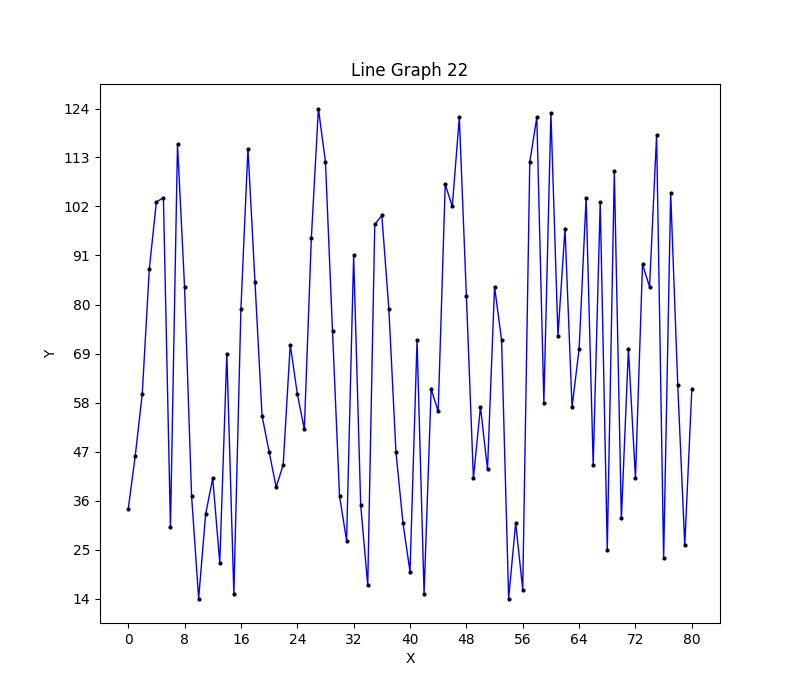cvs: (100, 84, 720, 623)
